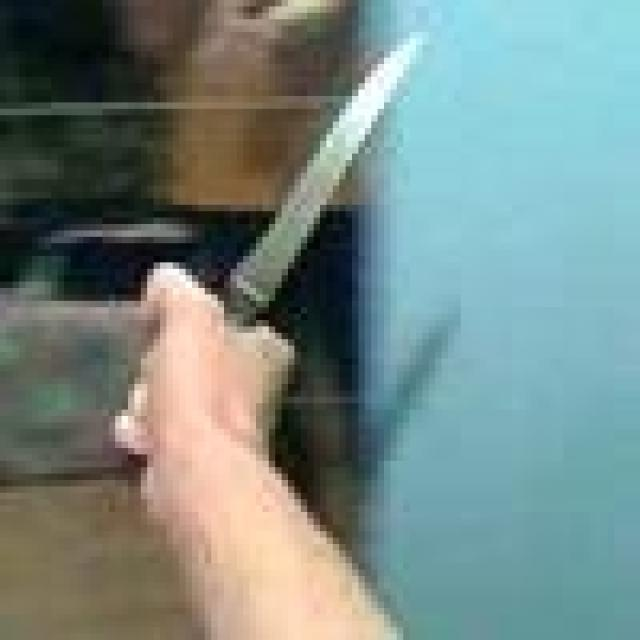senjata_tajam: (218, 28, 434, 330)
